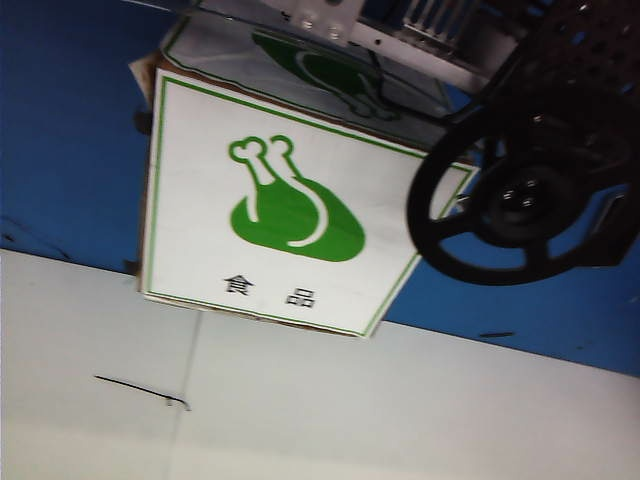Cube_food: (213, 129, 371, 318)
